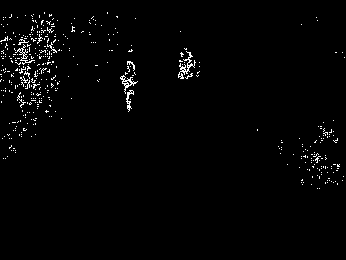person: (122, 58, 142, 111)
